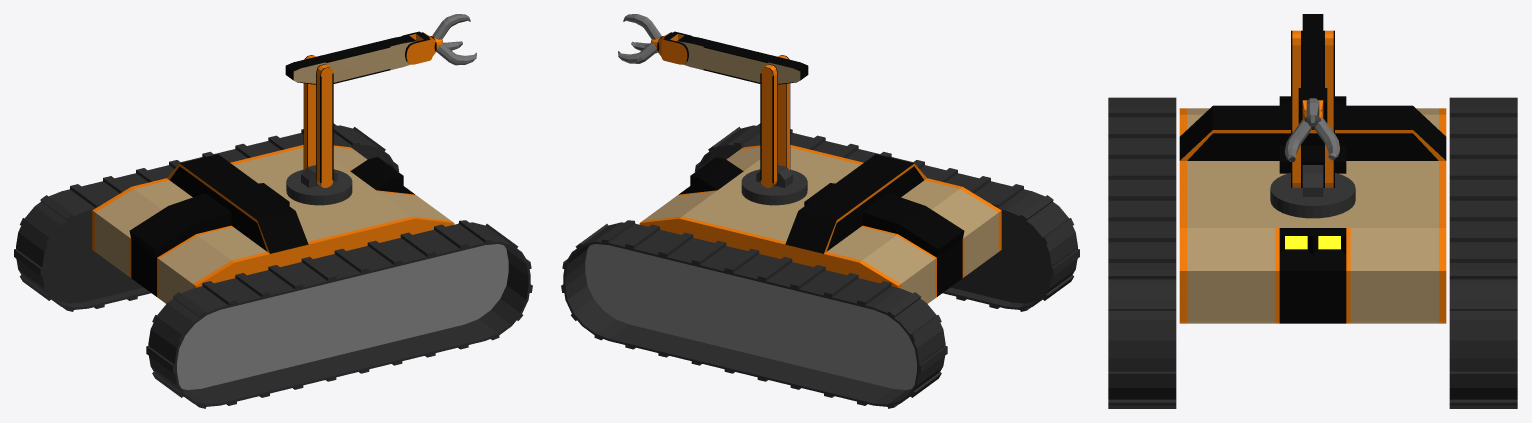
The model's file is Dron.fbx.
3 views of the same model, side by side, from view 1: azimuth 30°, elevation 25°; view 2: azimuth 150°, elevation 25°; view 3: azimuth 270°, elevation 25° (orthographic). The views are drawn at different scales.
Visible parts, largest first — view 1: Orugas, Body, Brazo2, Brazo1, BrazoBase, Munyeca; view 2: Orugas, Body, Brazo2, Brazo1, BrazoBase, Munyeca; view 3: Body, Orugas, BrazoBase, Brazo1, Brazo2, Cube.003, Cube.002, Munyeca.
Part boxes in pixels (x1,y1,x2,y2): Orugas: (14,123,532,408); Body: (92,145,454,303); Brazo2: (285,35,416,84); Brazo1: (303,55,333,187); BrazoBase: (286,165,352,205); Munyeca: (402,31,435,64); Orugas: (561,123,1079,408); Body: (639,145,1001,303); Brazo2: (677,35,808,84); Brazo1: (760,55,790,187); BrazoBase: (741,165,807,205); Munyeca: (658,31,691,64); Body: (1179,96,1446,323); Orugas: (1108,97,1517,408); BrazoBase: (1270,165,1355,218); Brazo1: (1291,30,1334,187); Brazo2: (1302,14,1323,95); Cube.003: (1284,119,1311,161); Cube.002: (1314,118,1339,160); Munyeca: (1298,88,1327,123).
Bounding box in the file's own units: 329 × 215 × 240.
